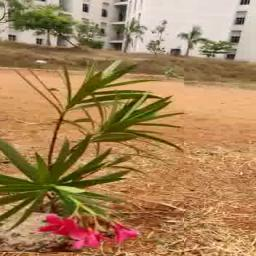OLEANDER: (0, 60, 185, 253)
